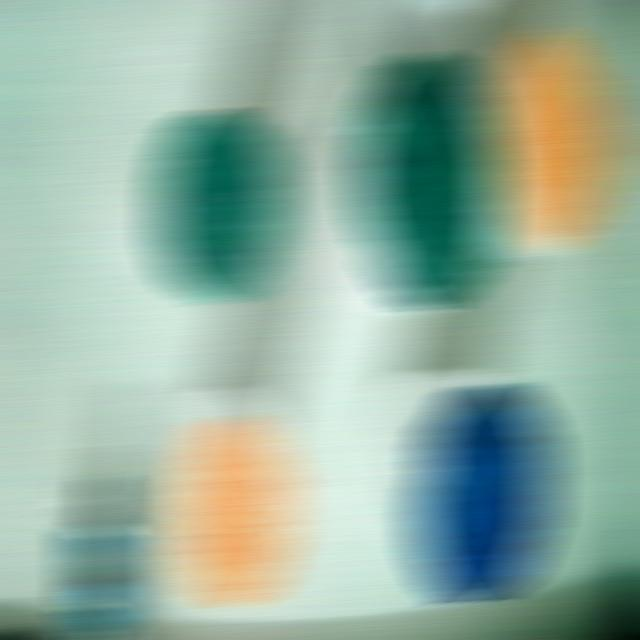blue: (412, 384, 551, 603)
green: (355, 53, 502, 311), (153, 108, 288, 303)
yellow: (493, 28, 612, 250), (168, 419, 295, 607)
